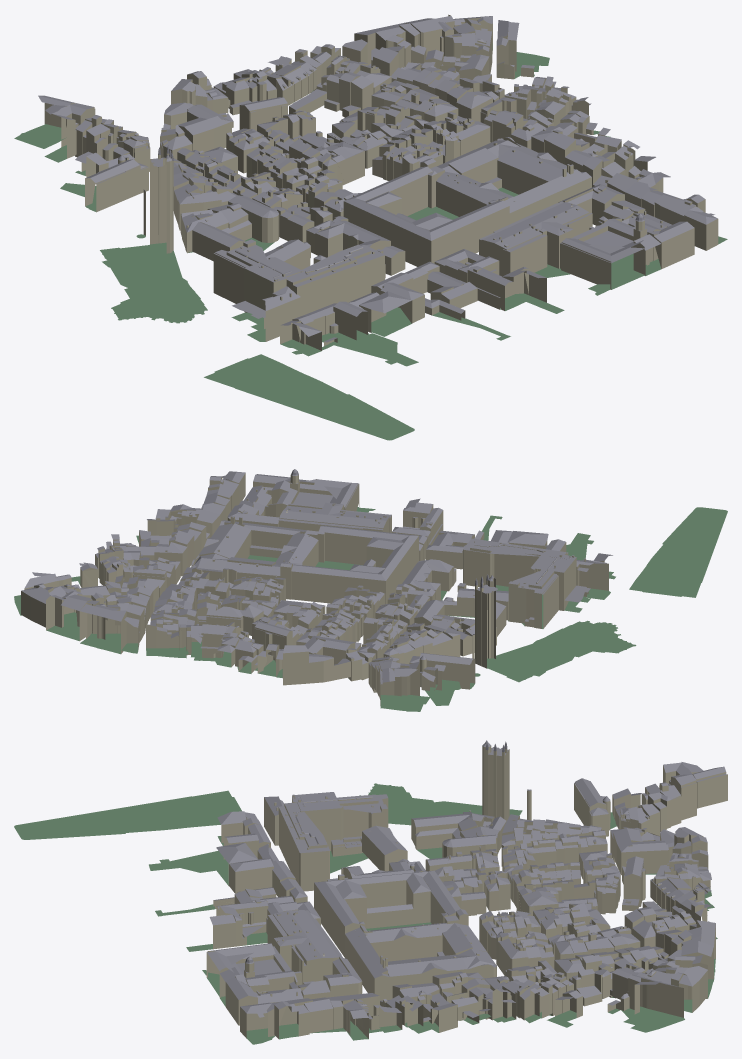
Rendered from citygml_tile_centre_w250_d250.obj.
3 views of the same model, one above another, from view 1: azimuth 30°, elevation 25°; view 2: azimuth 150°, elevation 25°; view 3: azimuth 270°, elevation 25° (orthographic). The views are drawn at different scales.
Bounding box in the file's own units: 339 × 58.38 × 381.
